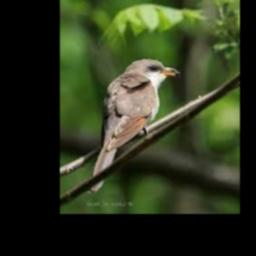Cuckoo: (89, 59, 179, 194)
